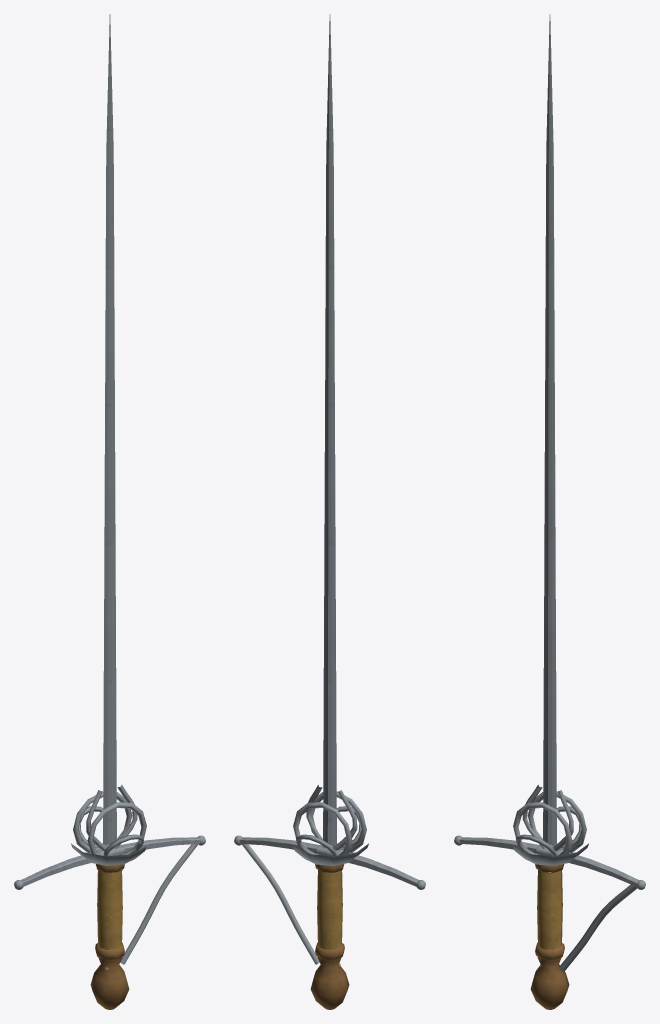
File: rapier.lod2.glb
3 views of the same model, side by side, from view 1: azimuth 30°, elevation 25°; view 2: azimuth 150°, elevation 25°; view 3: azimuth 330°, elevation 25° (orthographic).
Parts seen in each view (by area): view 1: steel / forged blade steel, bronze / cast bronze with patina, brass / polished brass furniture; view 2: steel / forged blade steel, bronze / cast bronze with patina, brass / polished brass furniture; view 3: steel / forged blade steel, brass / polished brass furniture, bronze / cast bronze with patina.
Part boxes in pixels (x1,y1,x2,y2): steel / forged blade steel: [14, 14, 205, 964]; bronze / cast bronze with patina: [90, 864, 129, 1009]; brass / polished brass furniture: [97, 870, 122, 949]; steel / forged blade steel: [234, 14, 425, 964]; bronze / cast bronze with patina: [310, 864, 349, 1009]; brass / polished brass furniture: [317, 870, 342, 949]; steel / forged blade steel: [454, 14, 645, 971]; brass / polished brass furniture: [537, 870, 562, 949]; bronze / cast bronze with patina: [530, 864, 569, 1009].
Size of the model in its own units: 0.2412 by 1.2 by 0.0907.
4 materials, 3 textured.
